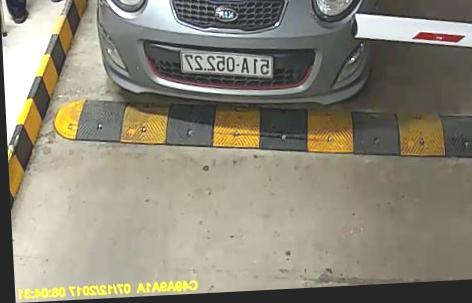License_Plate: (179, 48, 278, 80)
